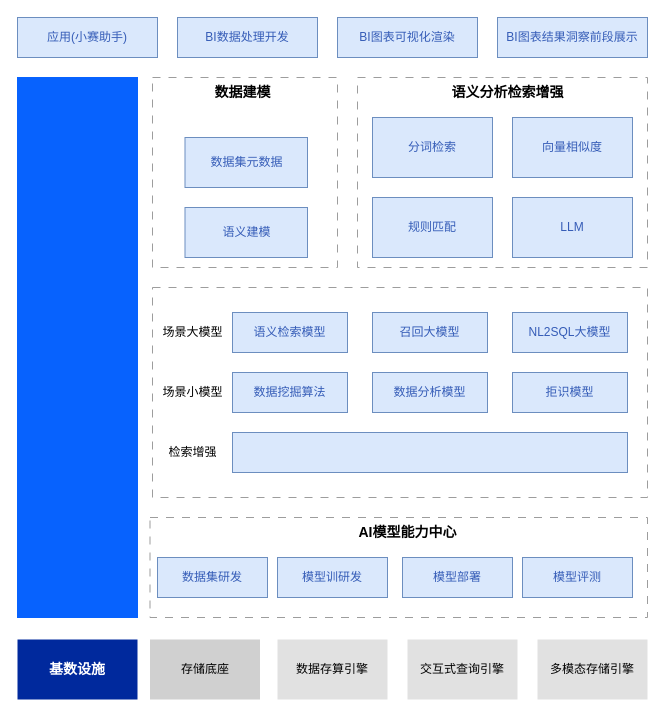
Image size: 665x717. Some labels were removed from this diagram. The centre of each missing label's shape, as x and y in pixels:
"RAG检索增强模块" goes at point 430,452.
"智能分析问答 & 大模型平台" goes at point 77,347.
